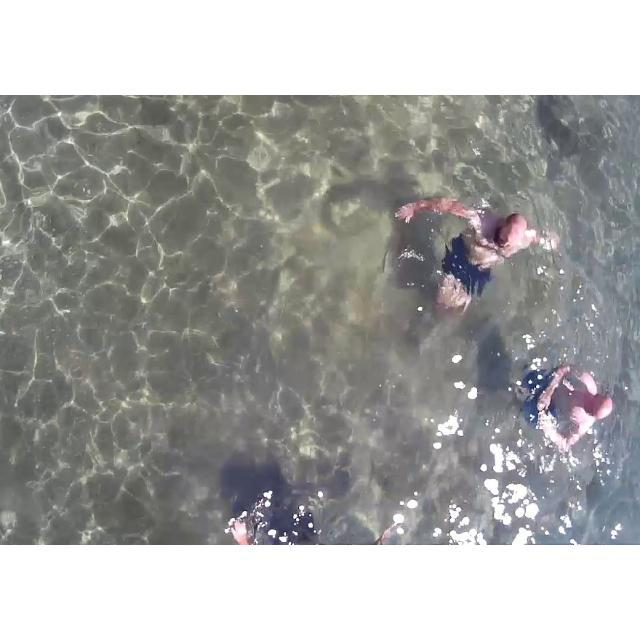human: (397, 172, 546, 327), (522, 337, 612, 461)
